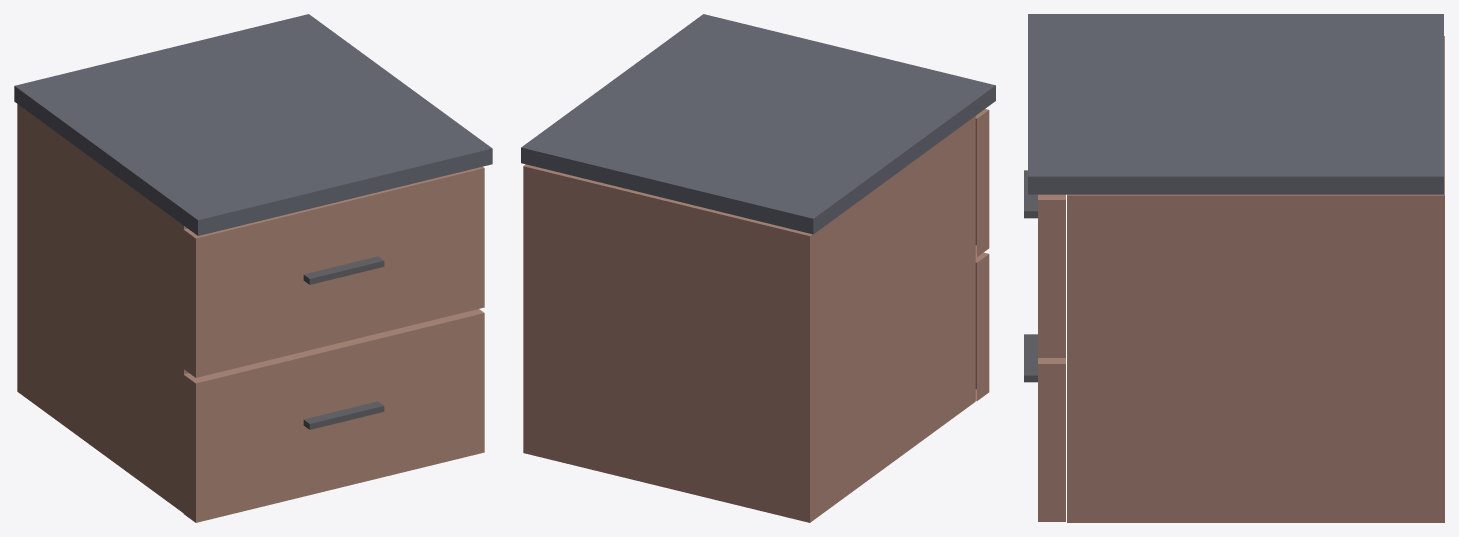
The model's file is Stoleshnica2.fbx.
3 renders of one model, left to right at view 1: azimuth 30°, elevation 25°; view 2: azimuth 150°, elevation 25°; view 3: azimuth 270°, elevation 25°, orthographic. The views are drawn at different scales.
Visible parts, largest first — view 1: столеншница2; view 2: столеншница2; view 3: столеншница2.
Boxes of the visible parts, box(x1,y1,x2,y2) form: столеншница2: box(14, 14, 492, 522); столеншница2: box(521, 14, 995, 522); столеншница2: box(1024, 14, 1444, 522).
Size of the model in its own units: 114 by 114 by 125.
